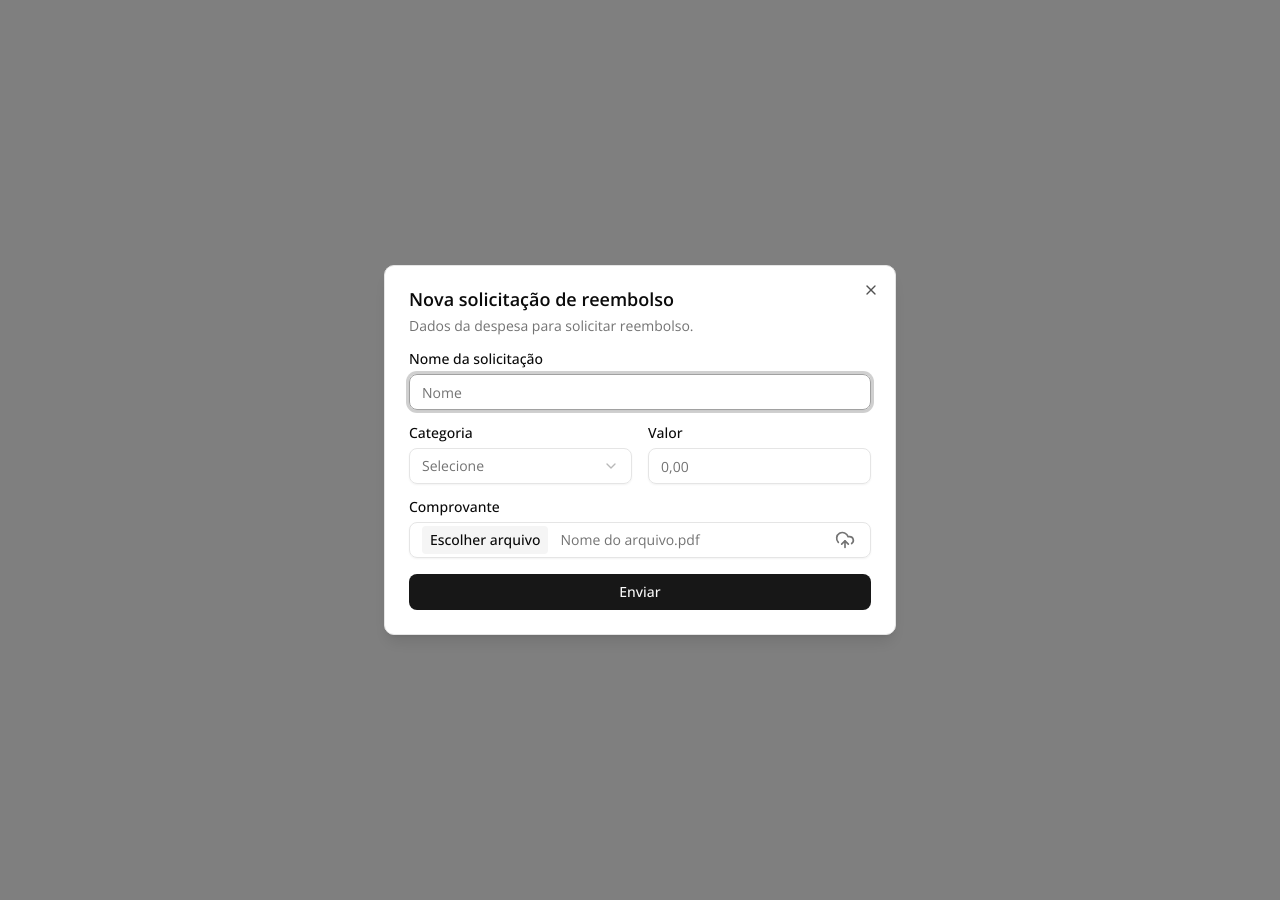
Test: RefundFormDialog › lets the user pick a category with the keyboard
Click the dropdown named "Categoria" at {"x": 520, "y": 466}, box [409, 448, 632, 484]
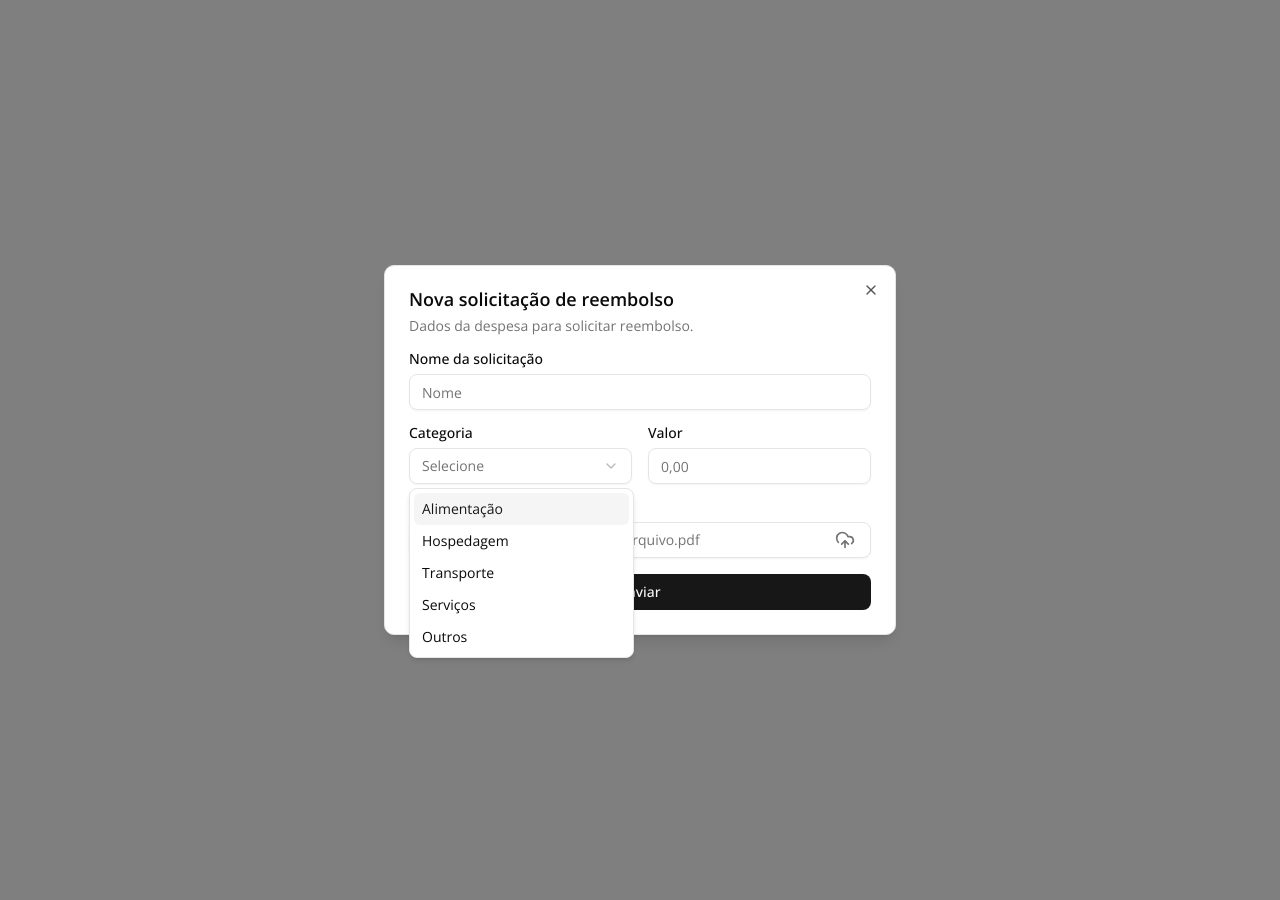
Click the option "Alimentação" at {"x": 522, "y": 509}, box [414, 493, 629, 525]
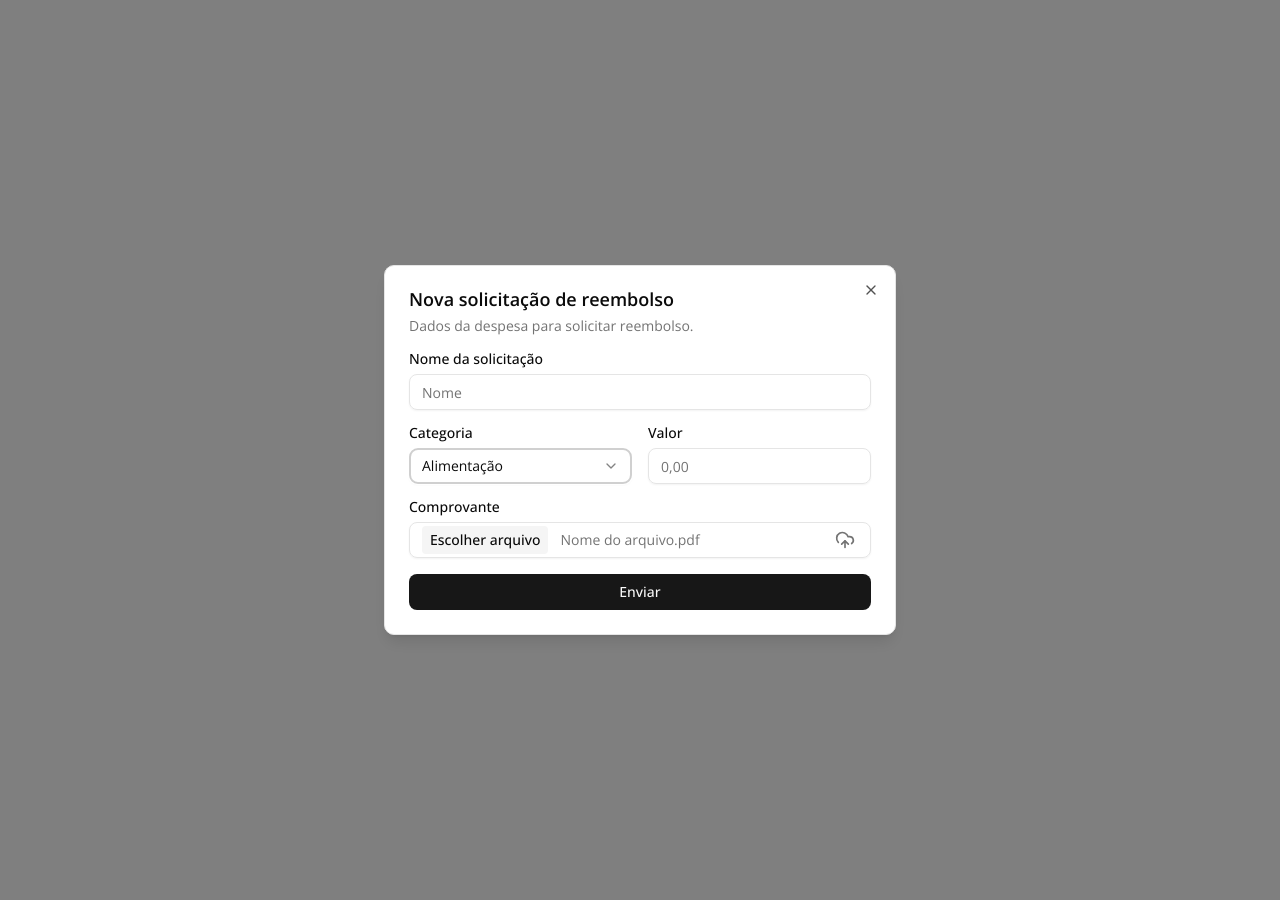
Expected: the dropdown named "Categoria" reads "Alimentação", [409, 448, 632, 484]
